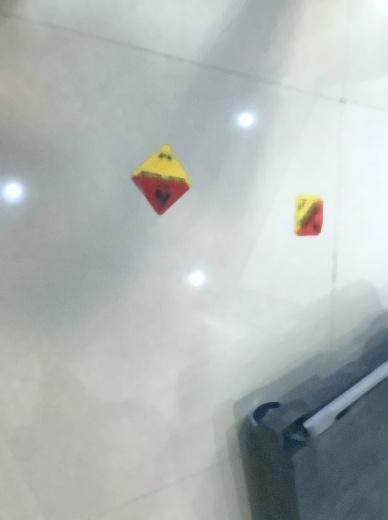organic-peroxide: (129, 142, 193, 216), (294, 195, 324, 236)
